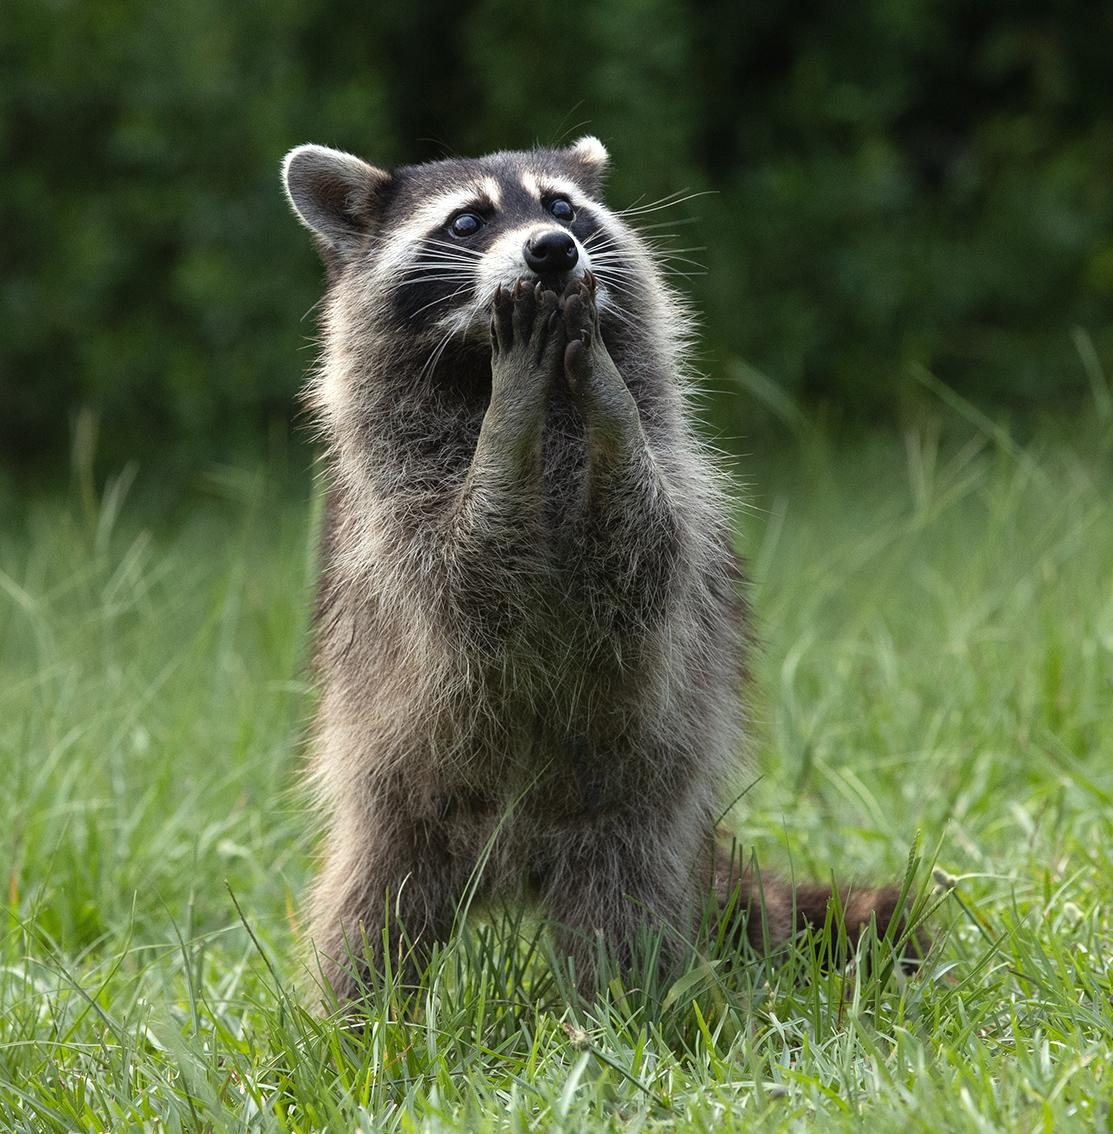raccoon: (268, 128, 927, 1006)
